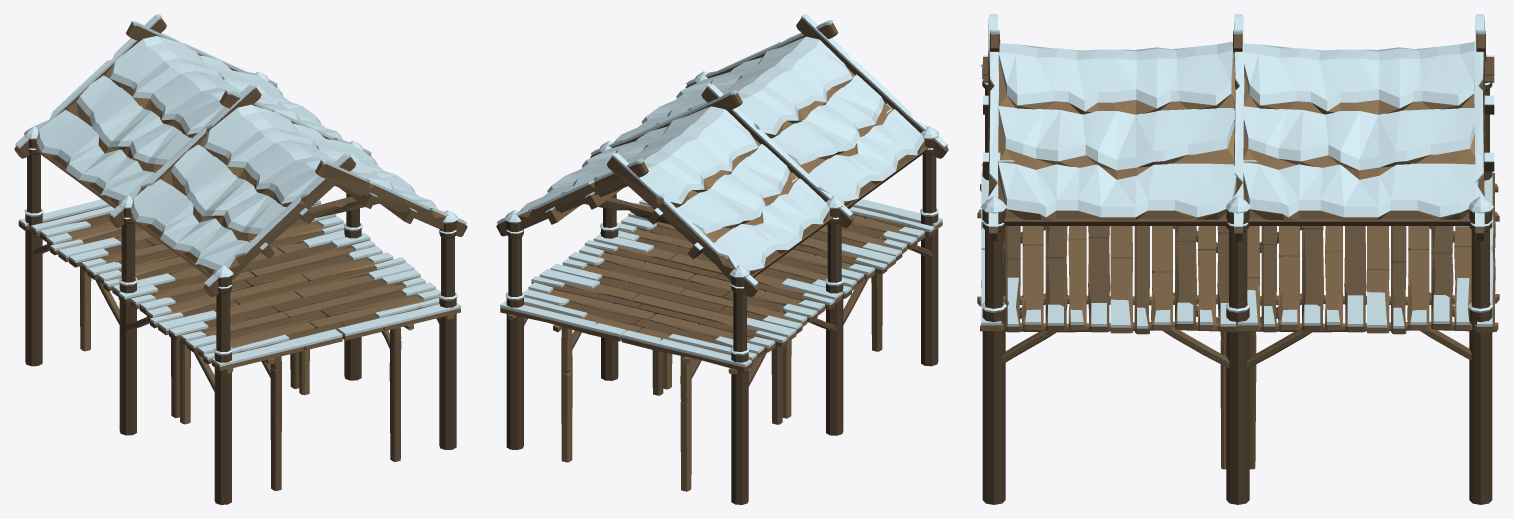
The model's file is Puerto02.glb.
3 renders of one model, left to right at view 1: azimuth 30°, elevation 25°; view 2: azimuth 150°, elevation 25°; view 3: azimuth 270°, elevation 25°, orthographic. The views are drawn at different scales.
Parts seen in each view (by area): view 1: SM_Bld_BoatHouse_02_Snow; view 2: SM_Bld_BoatHouse_02_Snow; view 3: SM_Bld_BoatHouse_02_Snow.
Part boxes in pixels (x1,y1,x2,y2): SM_Bld_BoatHouse_02_Snow: [14, 14, 467, 504]; SM_Bld_BoatHouse_02_Snow: [496, 14, 948, 504]; SM_Bld_BoatHouse_02_Snow: [977, 14, 1499, 504].
Size of the model in its own units: 8.01 by 9.29 by 10.8.
Materials: 1 (1 with a texture image).
